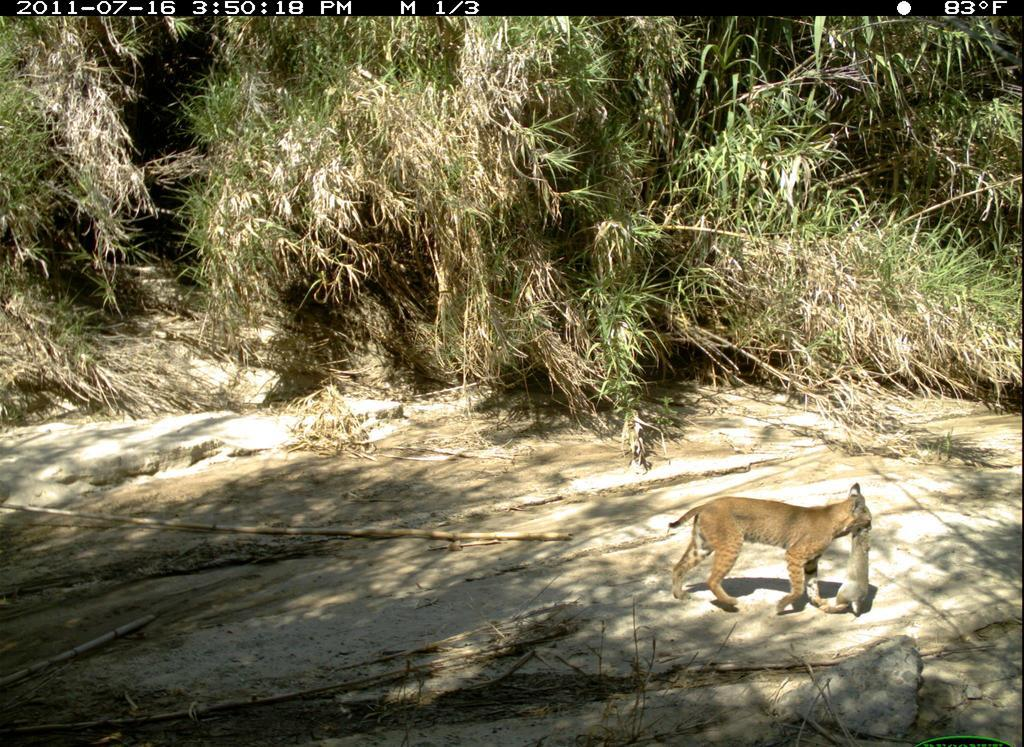bobcat: (655, 468, 886, 612)
